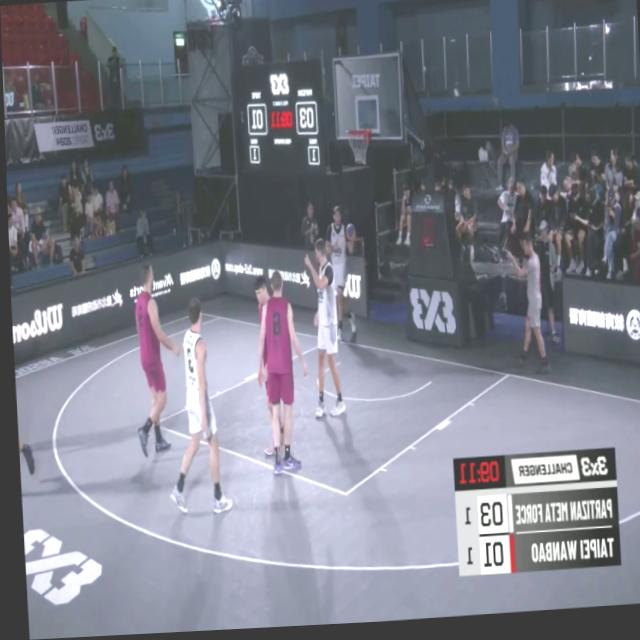ball: (341, 224, 356, 247)
hoop: (346, 129, 371, 171)
player: (161, 296, 227, 522), (255, 269, 306, 482), (129, 266, 183, 463), (297, 245, 342, 437), (9, 292, 34, 504), (325, 205, 363, 344)
